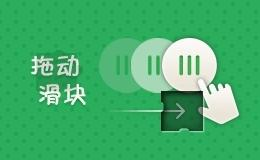target: (138, 70, 182, 111)
